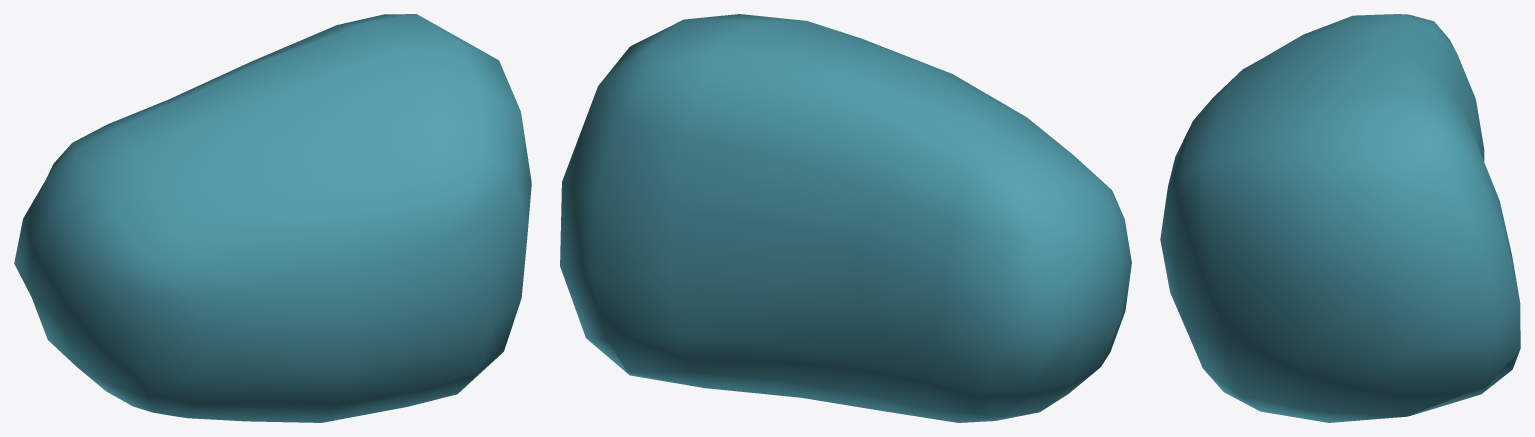
Rendered from VIS_Alpha_Surface_045.dae.
The picture shows the model from 3 angles, left to right: view 1: azimuth 30°, elevation 25°; view 2: azimuth 150°, elevation 25°; view 3: azimuth 270°, elevation 25°; orthographic projection. The views are drawn at different scales.
Visible parts, largest first — view 1: VIS_Alpha_Surface_045; view 2: VIS_Alpha_Surface_045; view 3: VIS_Alpha_Surface_045.
Part boxes in pixels (<box>): VIS_Alpha_Surface_045: <box>14,14,531,422</box>; VIS_Alpha_Surface_045: <box>560,14,1131,422</box>; VIS_Alpha_Surface_045: <box>1160,14,1520,422</box>.
Size of the model in its own units: 0.0305 by 0.0206 by 0.0199.
